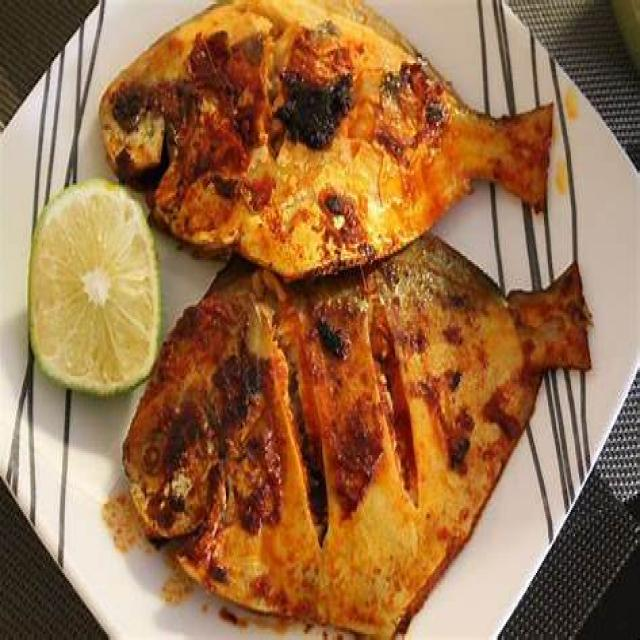Ikan Bakar: (121, 211, 564, 629), (89, 0, 551, 254)
